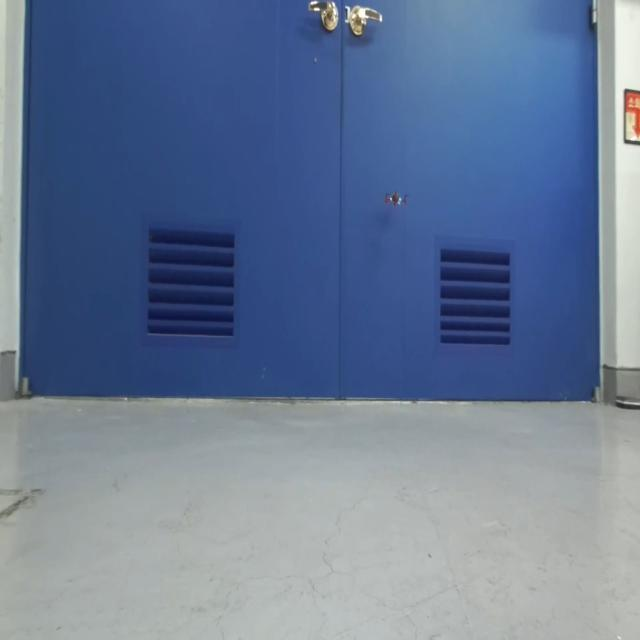crazyflie: (381, 184, 411, 213)
